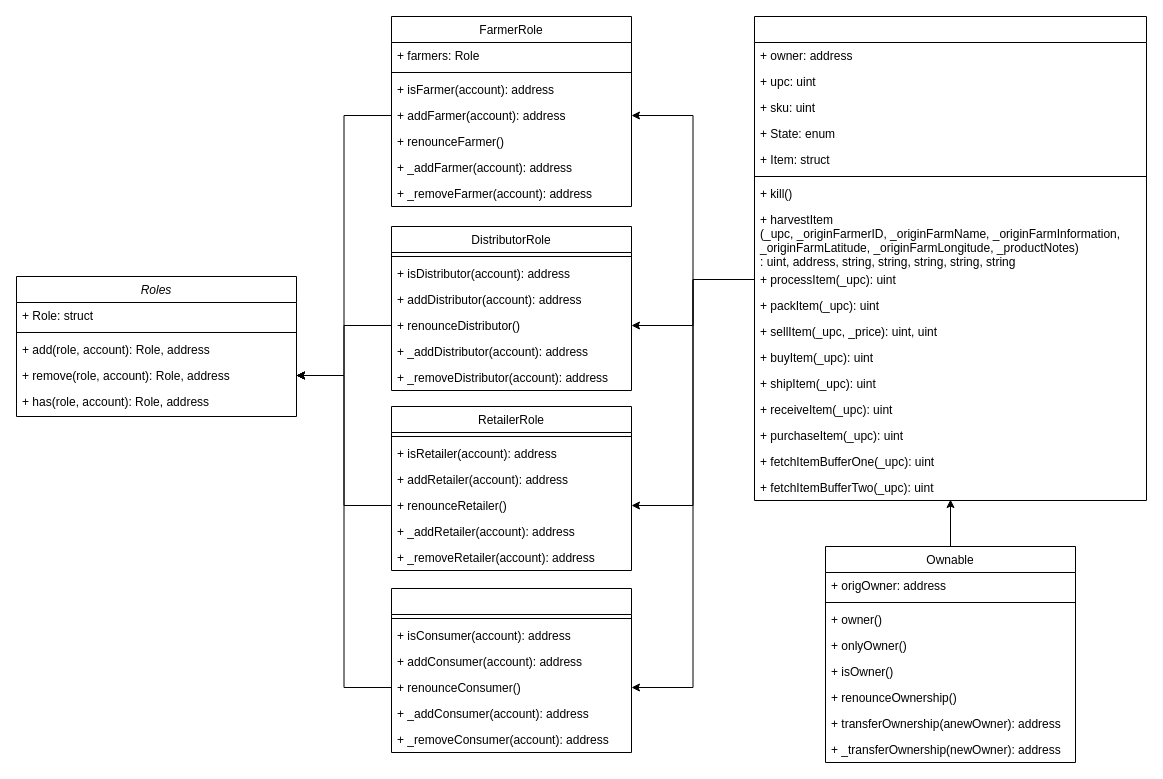
Some shapes in this 1163 by 779 pixel diagram are drawn without their labels. Here are the shapes that lost their labels. From the top down, the box of each, then its label:
(754, 16, 1146, 500): SupplyChain
(390, 588, 632, 752): ConsumerRole
